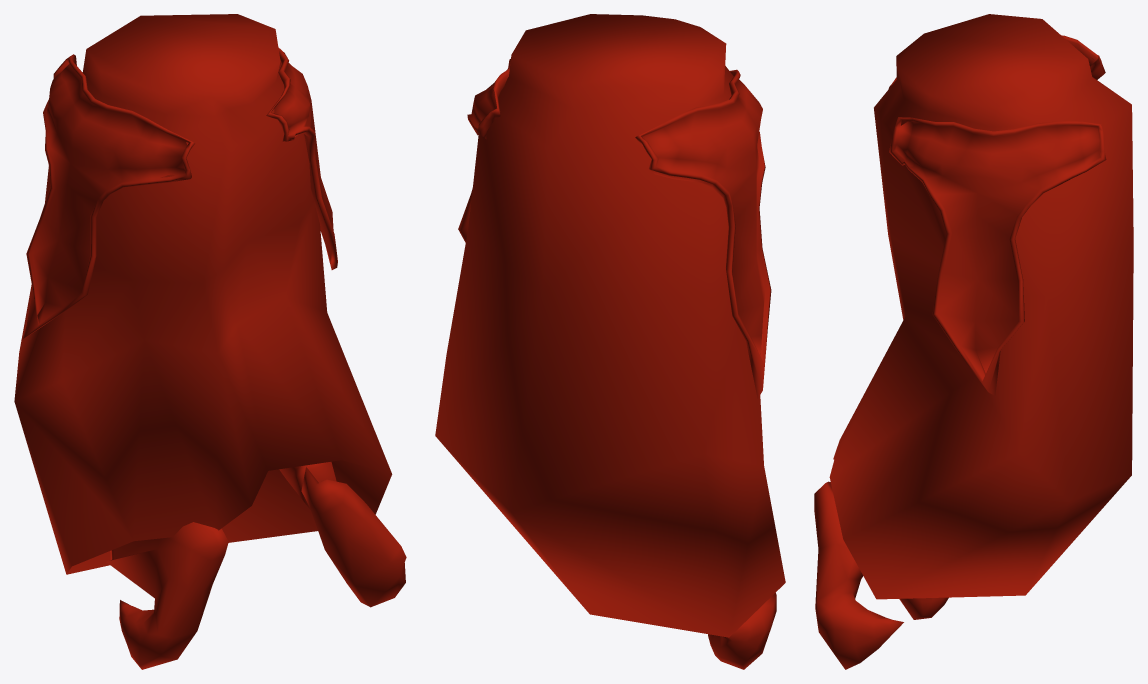
File: bot_000045.obj
3 views of the same model, side by side, from view 1: azimuth 30°, elevation 25°; view 2: azimuth 150°, elevation 25°; view 3: azimuth 270°, elevation 25° (orthographic). The views are drawn at different scales.
Visible parts, largest first — view 1: LowPoly_Warlock.004_Plane.004; view 2: LowPoly_Warlock.004_Plane.004; view 3: LowPoly_Warlock.004_Plane.004.
Part boxes in pixels (box(x1,y1,x2,y2)): LowPoly_Warlock.004_Plane.004: box(14, 14, 406, 669); LowPoly_Warlock.004_Plane.004: box(435, 14, 785, 669); LowPoly_Warlock.004_Plane.004: box(814, 14, 1133, 669).
Size of the model in its own units: 0.6144 by 1.12 by 0.5461.
